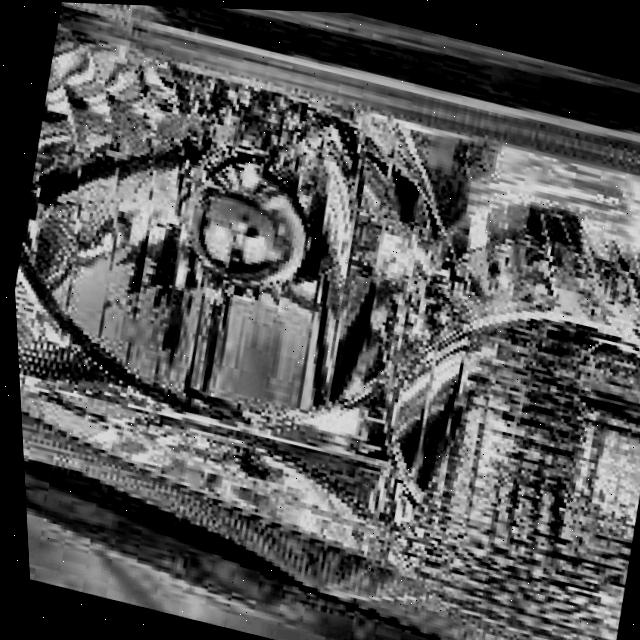head_lamp: (2, 46, 471, 417)
